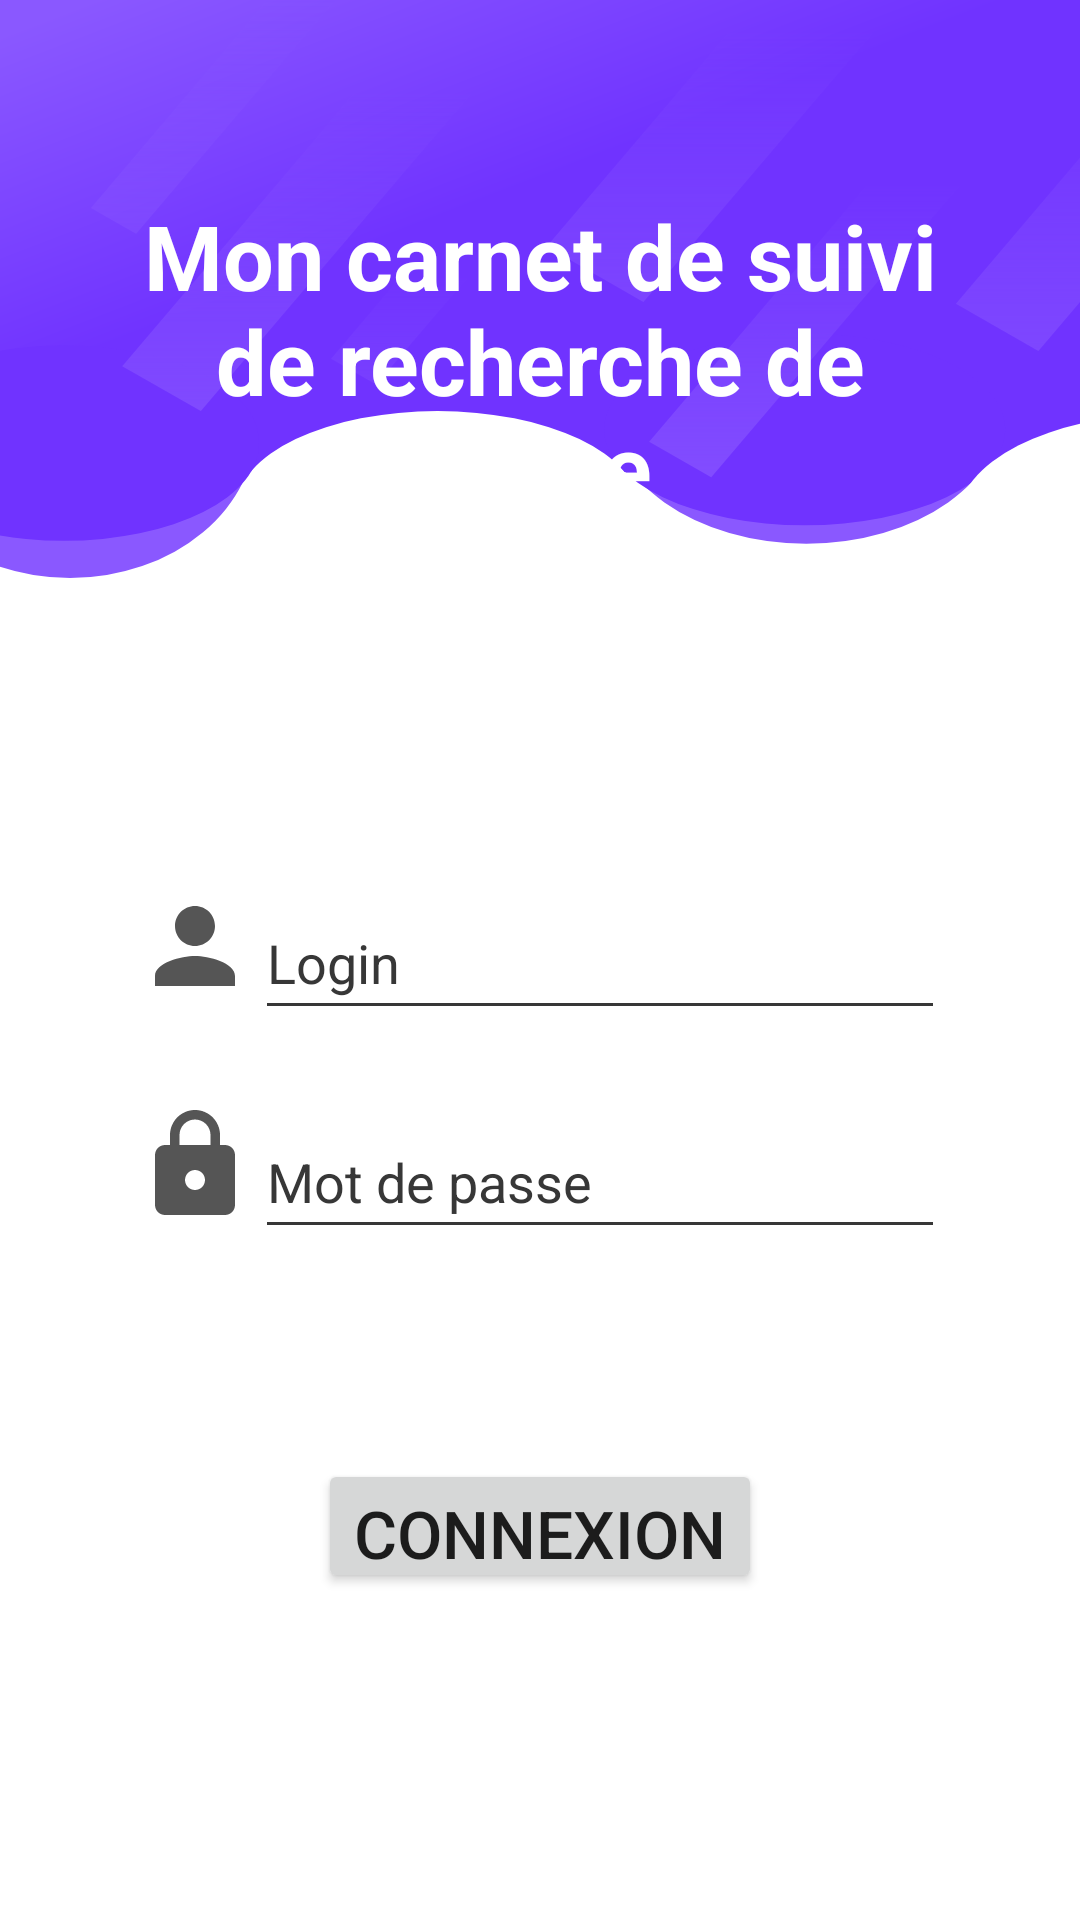

Named icons in this screenshot (1080px x 1920px) and their bounding boxes, (x1, y1, x2, y2):
lock: (155, 1110, 235, 1215)
person: (155, 906, 235, 986)
